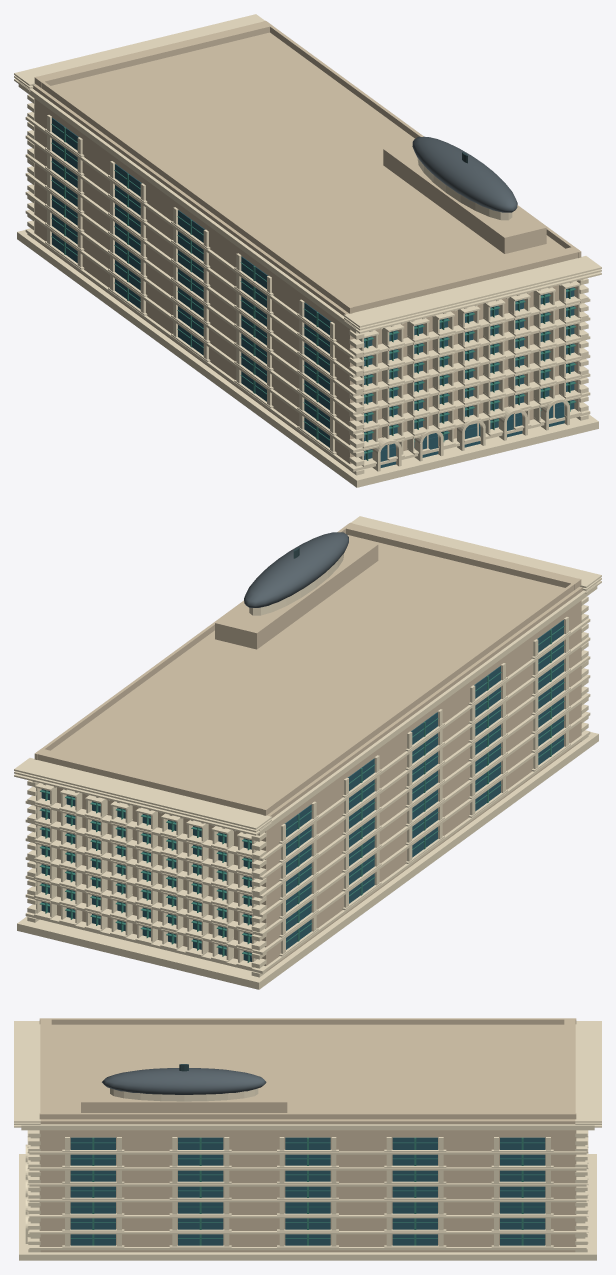
Rendered from union-building.glb.
The picture shows the model from 3 angles, top to bottom: view 1: azimuth 30°, elevation 25°; view 2: azimuth 150°, elevation 25°; view 3: azimuth 270°, elevation 25°; orthographic projection. The views are drawn at different scales.
Visible parts, largest first — view 1: union-building; view 2: union-building; view 3: union-building.
Boxes of the visible parts, bbox=[...] form: union-building: bbox=[14, 14, 601, 487]; union-building: bbox=[14, 516, 601, 989]; union-building: bbox=[14, 1018, 601, 1260].
Bounding box in the file's own units: 28.34 × 23.8 × 70.11.
